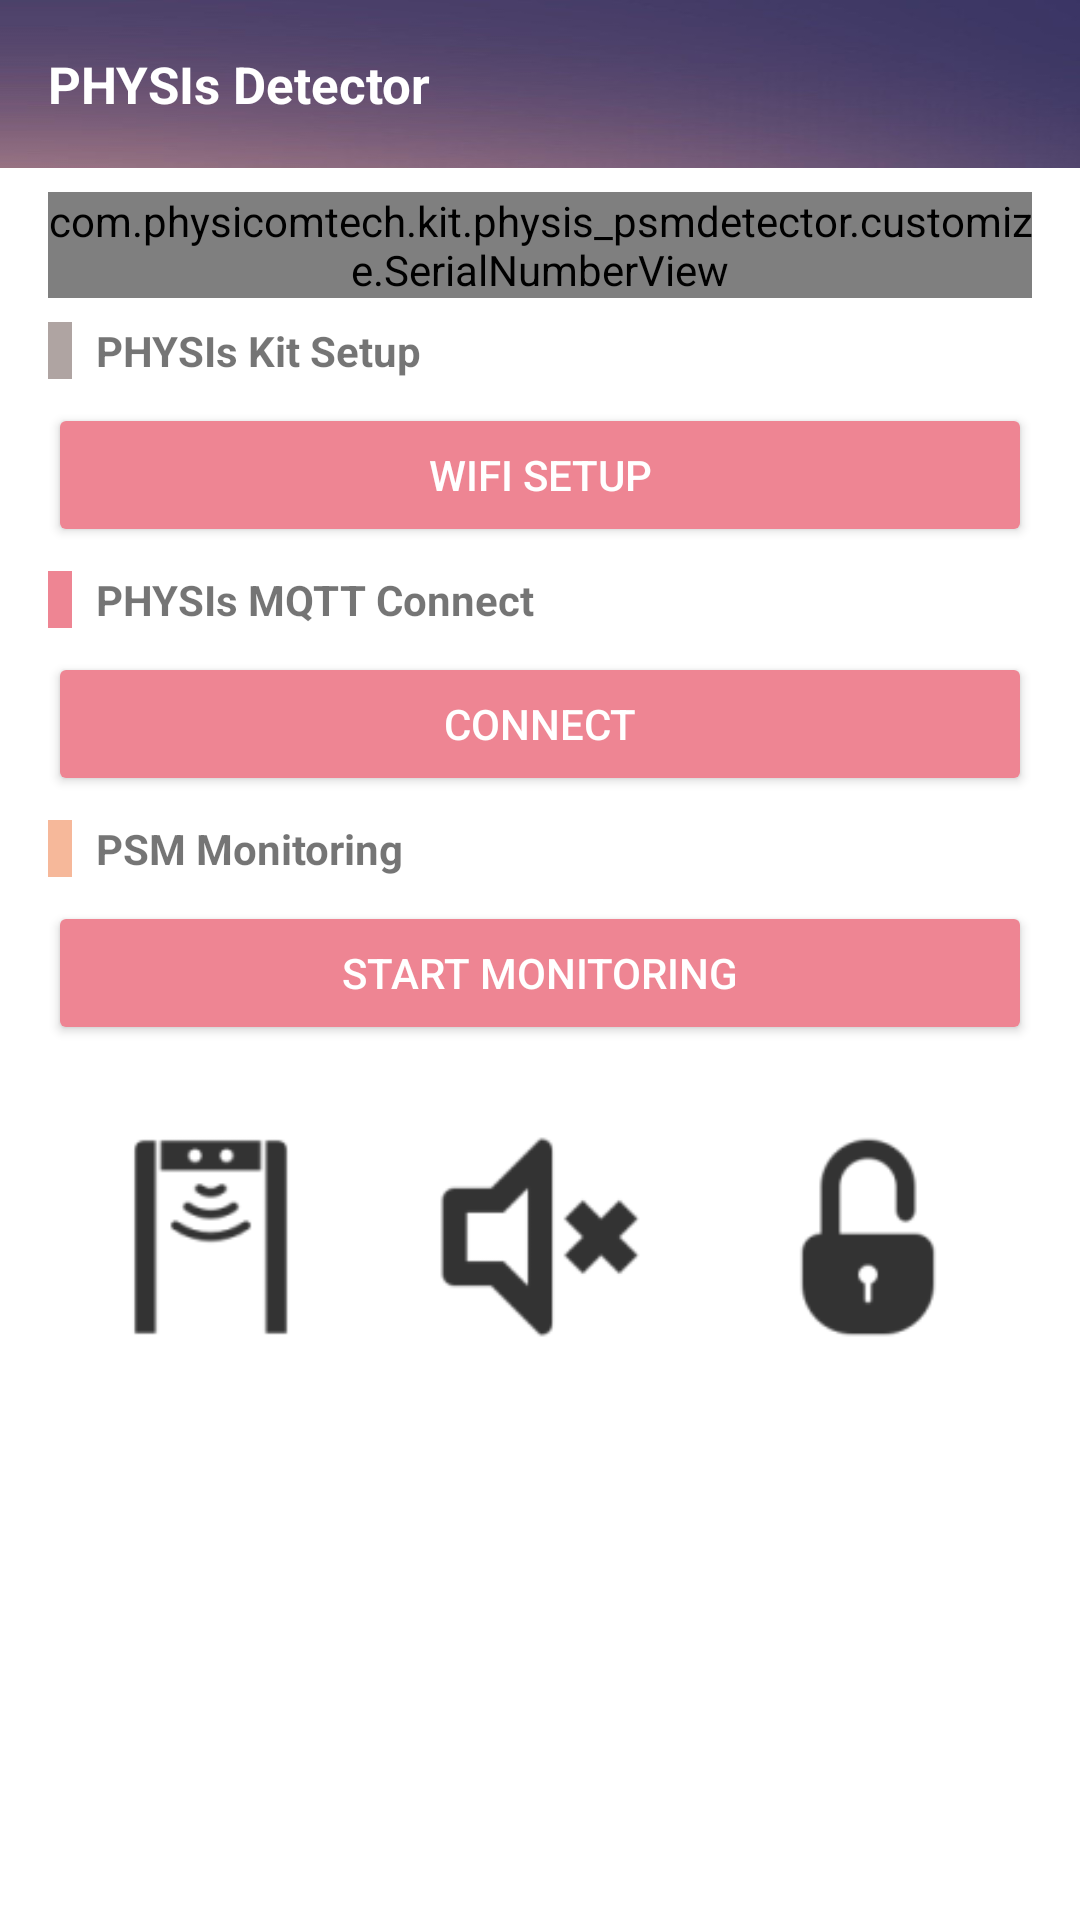

Icon click points for this 1080px x 1920px phone screenshot, format point (x, y):
pir off: point (211, 1237)
sound off: point (539, 1237)
